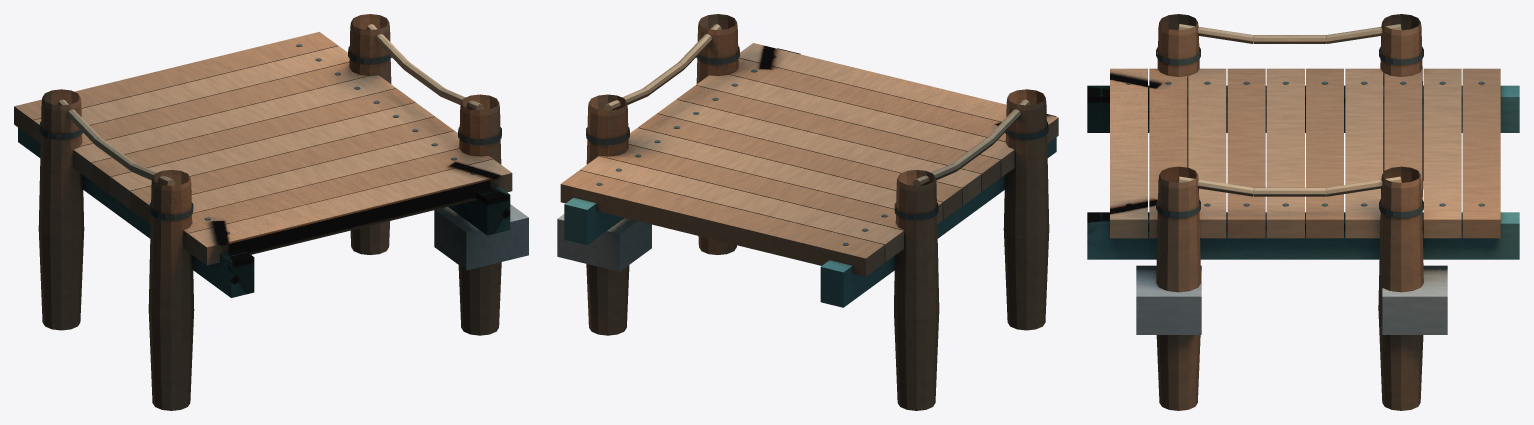
The model's file is harbor-pier.glb.
The picture shows the model from 3 angles, left to right: view 1: azimuth 30°, elevation 25°; view 2: azimuth 150°, elevation 25°; view 3: azimuth 270°, elevation 25°; orthographic projection.
Visible parts, largest first — view 1: PierTimber; view 2: PierTimber; view 3: PierTimber.
Boxes of the visible parts, bbox=[...] form: PierTimber: bbox=[14, 14, 528, 410]; PierTimber: bbox=[557, 14, 1058, 410]; PierTimber: bbox=[1087, 14, 1519, 410].
Bounding box in the file's own units: 2.17 × 1.31 × 2.25.
Materials: 1 (1 with a texture image).
